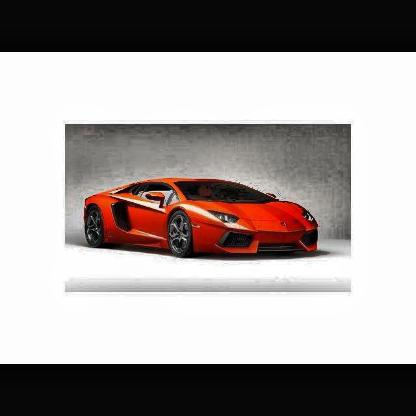Lamborghini Aventador Coupe 2012: (81, 175, 322, 264)
